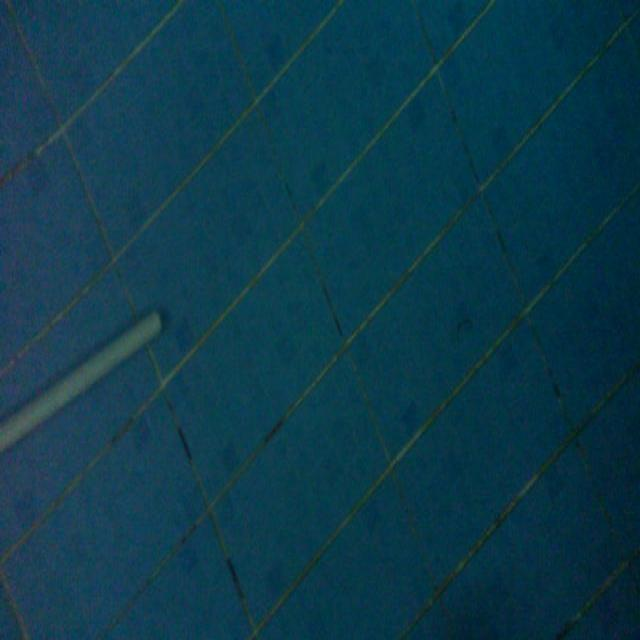Cube: (0, 304, 163, 459)
